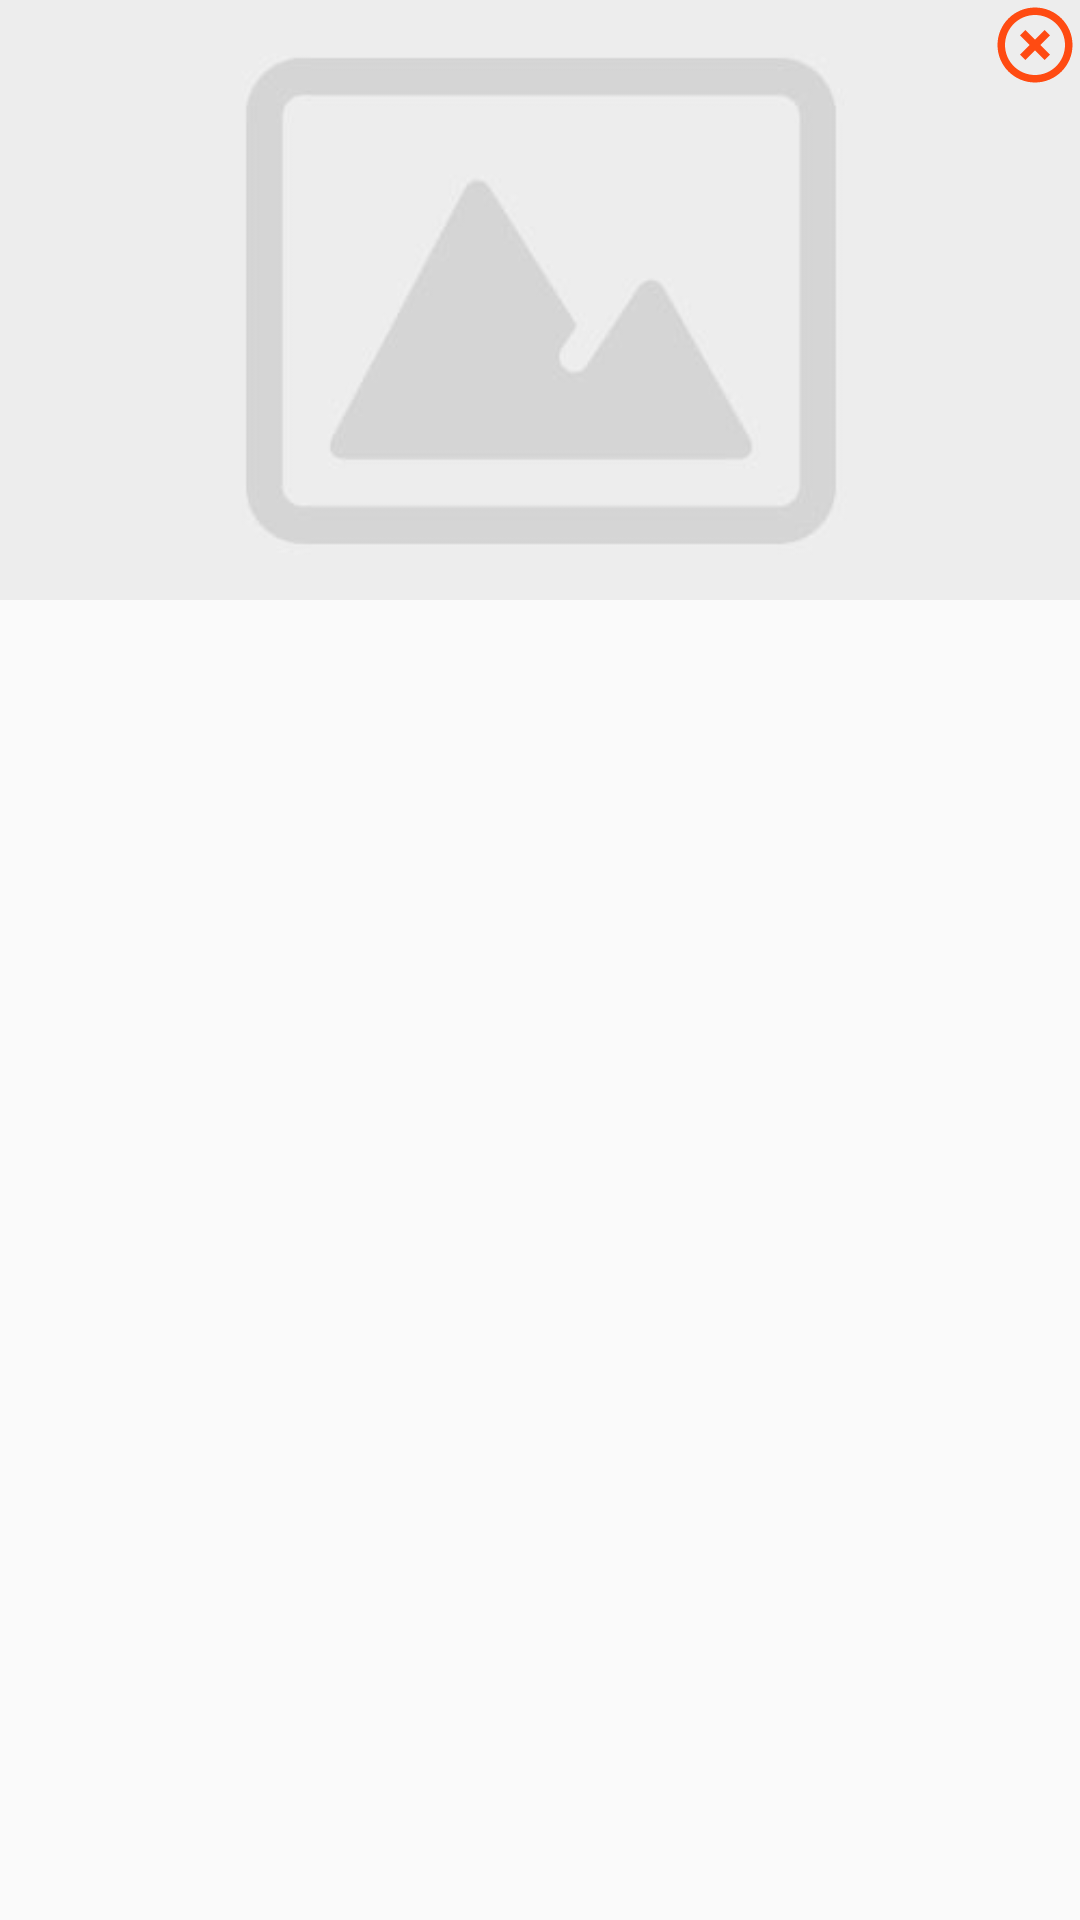

Named icons in this screenshot (1080 x 1920) and their bounding boxes, (x1, y1, x2, y2):
highlight off: (997, 7, 1073, 83)
